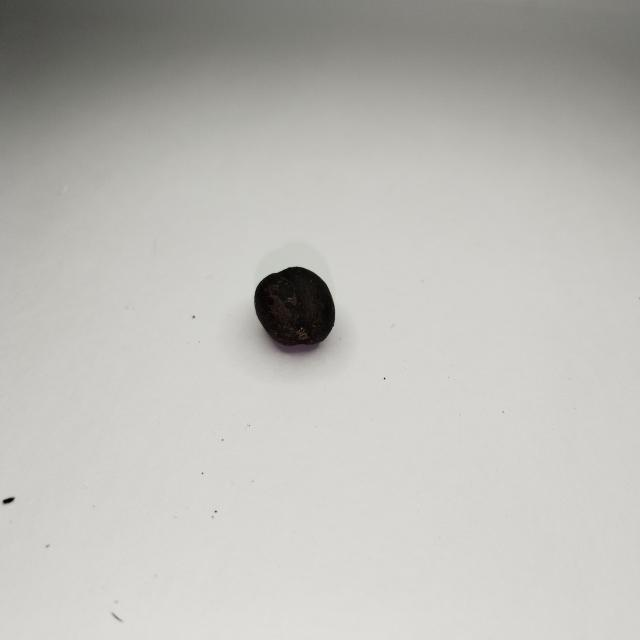Danado: (255, 267, 334, 346)
